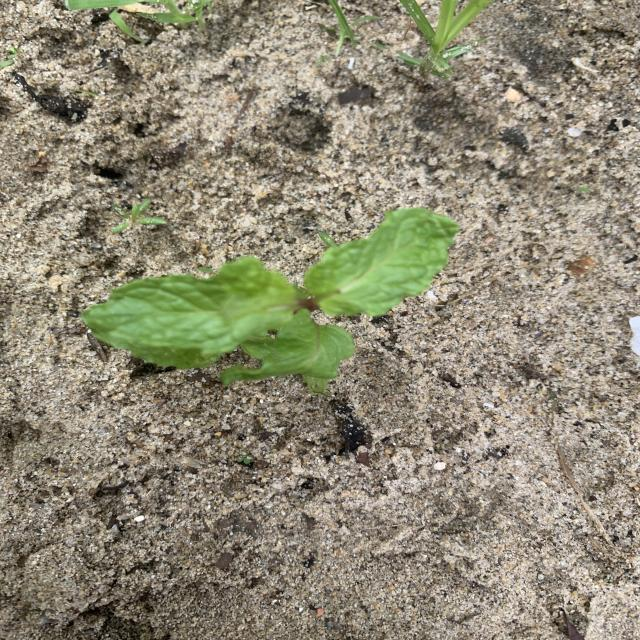crop: (84, 208, 452, 395)
weed: (400, 1, 490, 78), (138, 0, 210, 29), (112, 200, 165, 232), (110, 11, 144, 43), (235, 449, 252, 463)
